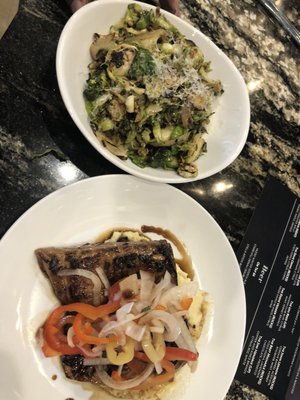curry: (128, 47, 158, 80)
sushi: (0, 175, 246, 399), (54, 1, 252, 184)
